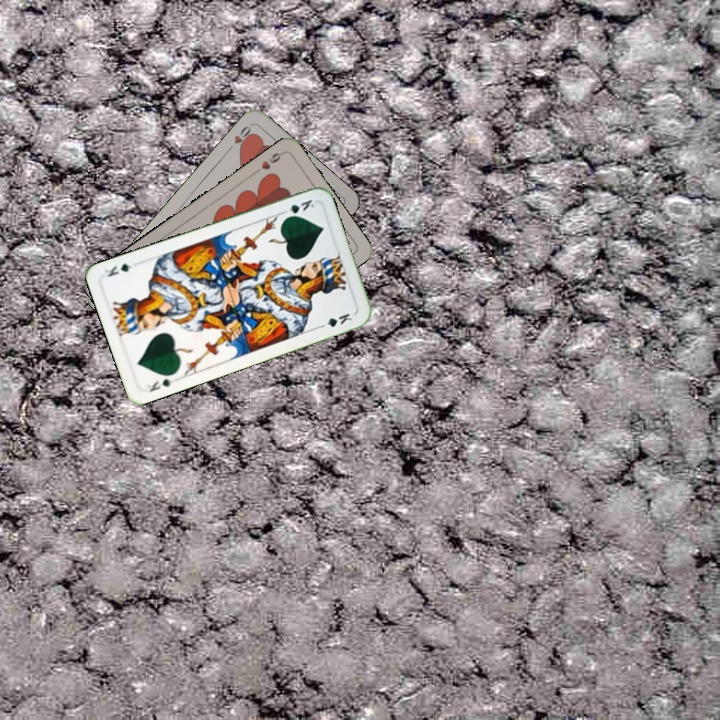GK: (278, 195, 317, 221), (143, 374, 176, 395)
H9: (250, 148, 286, 176)
HO: (223, 121, 256, 154)
